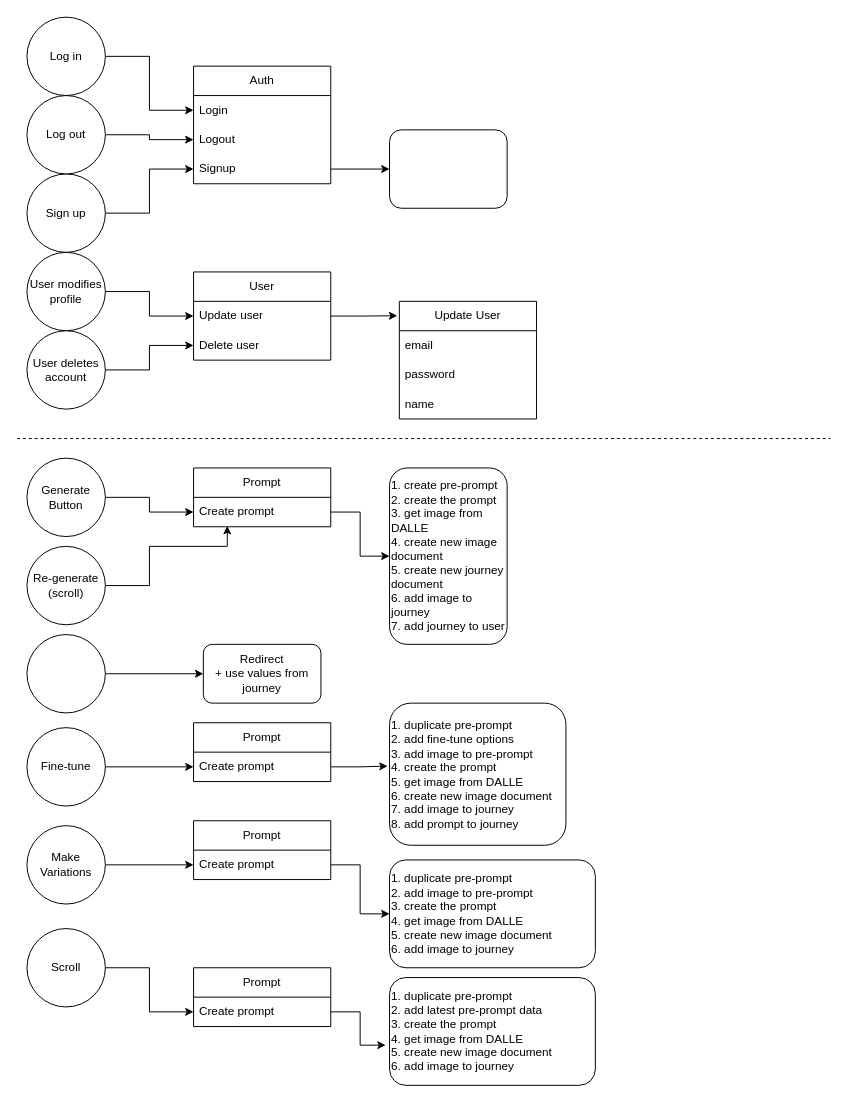
This 849x1103 diagram has some shape labels left out. Here are the shapes that lost their labels. From the top down, the centre of each, then its label:
At [448,168]: "1. new User document 2. use login Auth route 3. return User".
At [65,673]: "Re-prompt".
